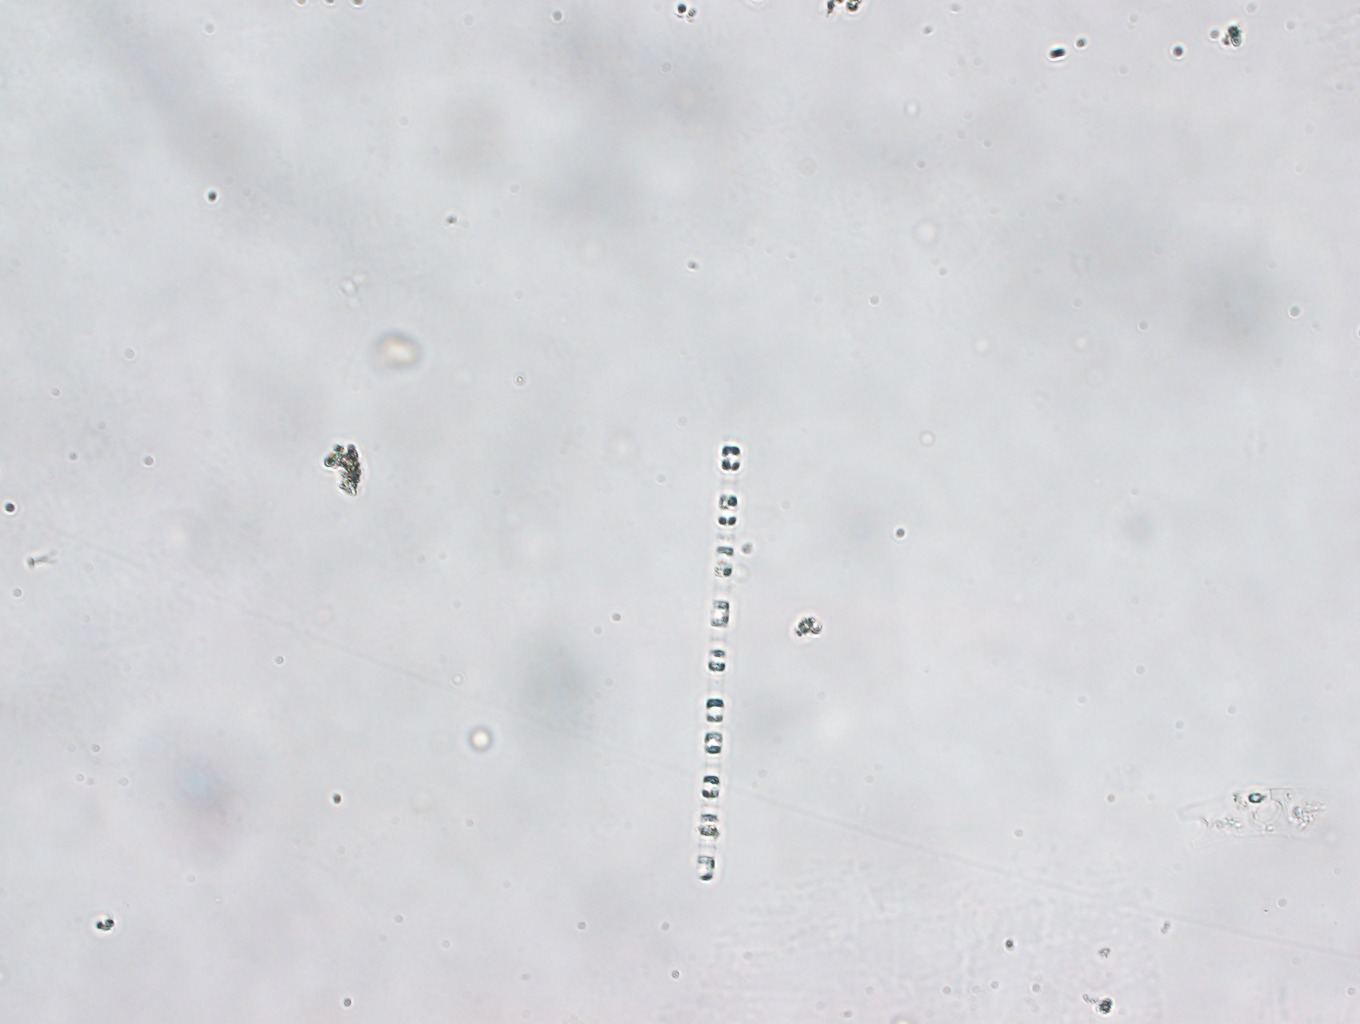skeletonema: (695, 445, 741, 882)
